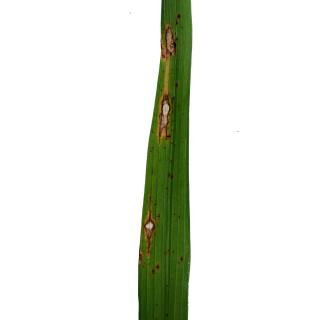Blast: (142, 206, 156, 254)
